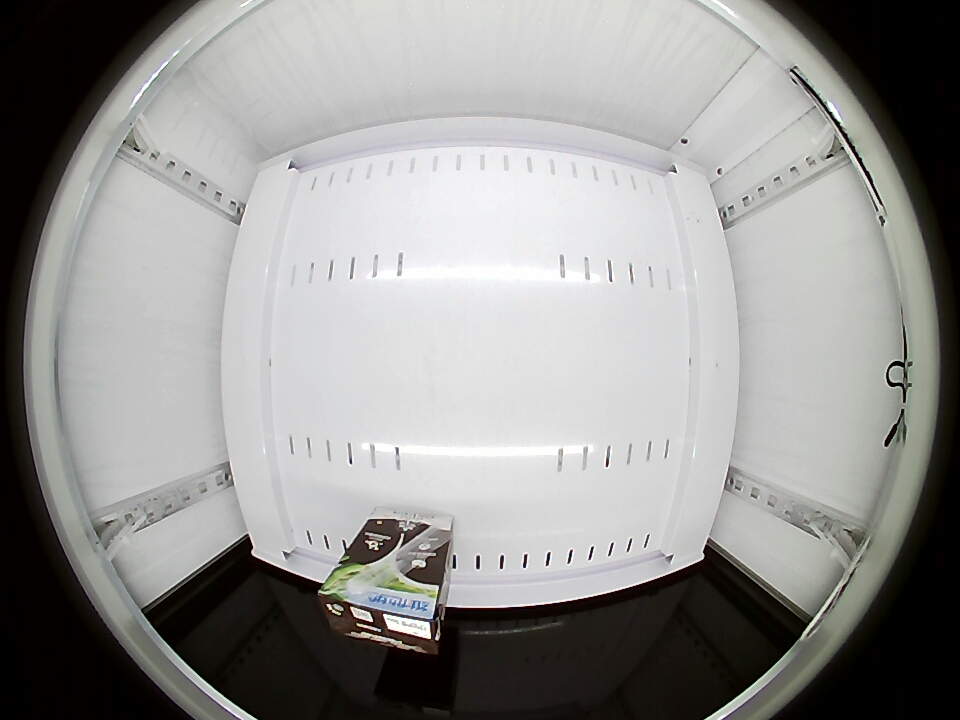weitanai2: (319, 568, 445, 653)
